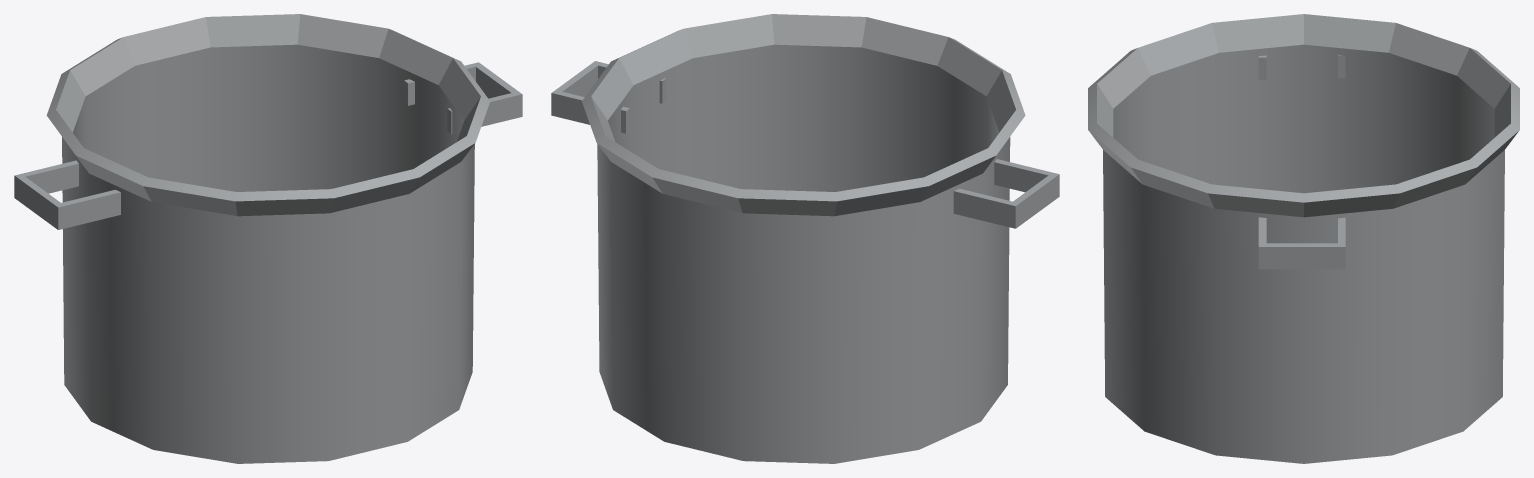
File: SM_pot_01.fbx
3 renders of one model, left to right at view 1: azimuth 30°, elevation 25°; view 2: azimuth 150°, elevation 25°; view 3: azimuth 270°, elevation 25°, orthographic.
Parts seen in each view (by area): view 1: Cylinder045; view 2: Cylinder045; view 3: Cylinder045.
Part boxes in pixels (x1=…): Cylinder045: x1=14, y1=14, x2=522, y2=463; Cylinder045: x1=551, y1=14, x2=1059, y2=463; Cylinder045: x1=1088, y1=14, x2=1519, y2=463.
Size of the model in its own units: 29.18 by 23.61 by 16.54.
